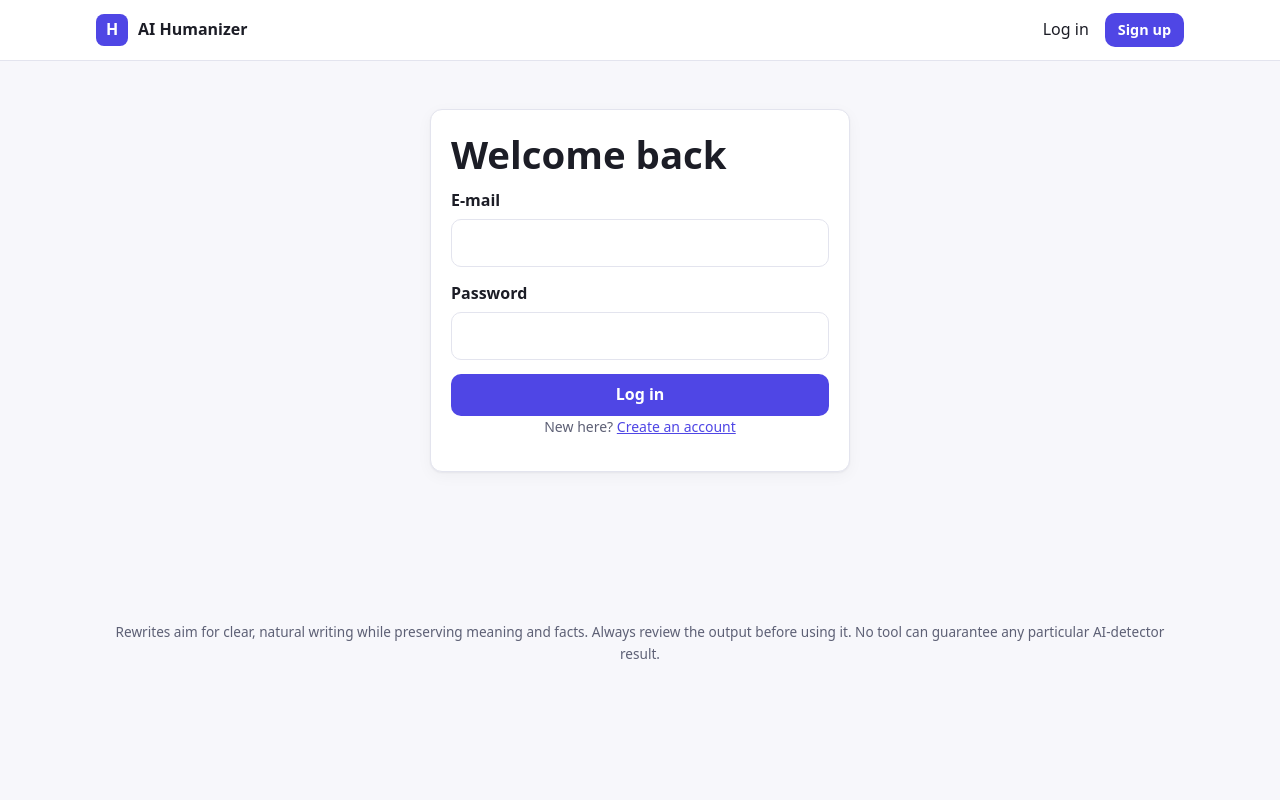
Test: App › shows API errors on failed login
Type "a@example.com" into the field labelled "E-mail" at (640,243), box top-left (451, 219), bottom-right (829, 267)
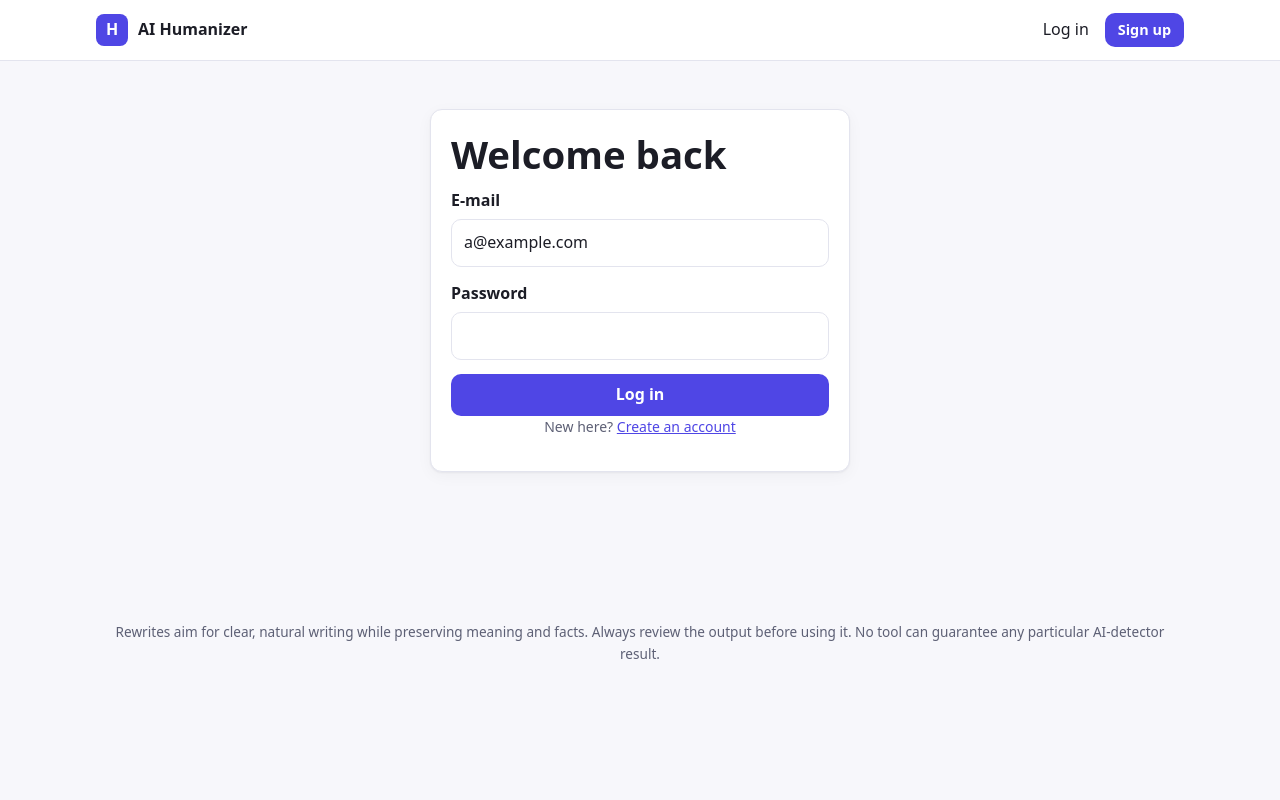
Type "wrongpass1" into the password field labelled "Password" at (640,336), box top-left (451, 312), bottom-right (829, 360)
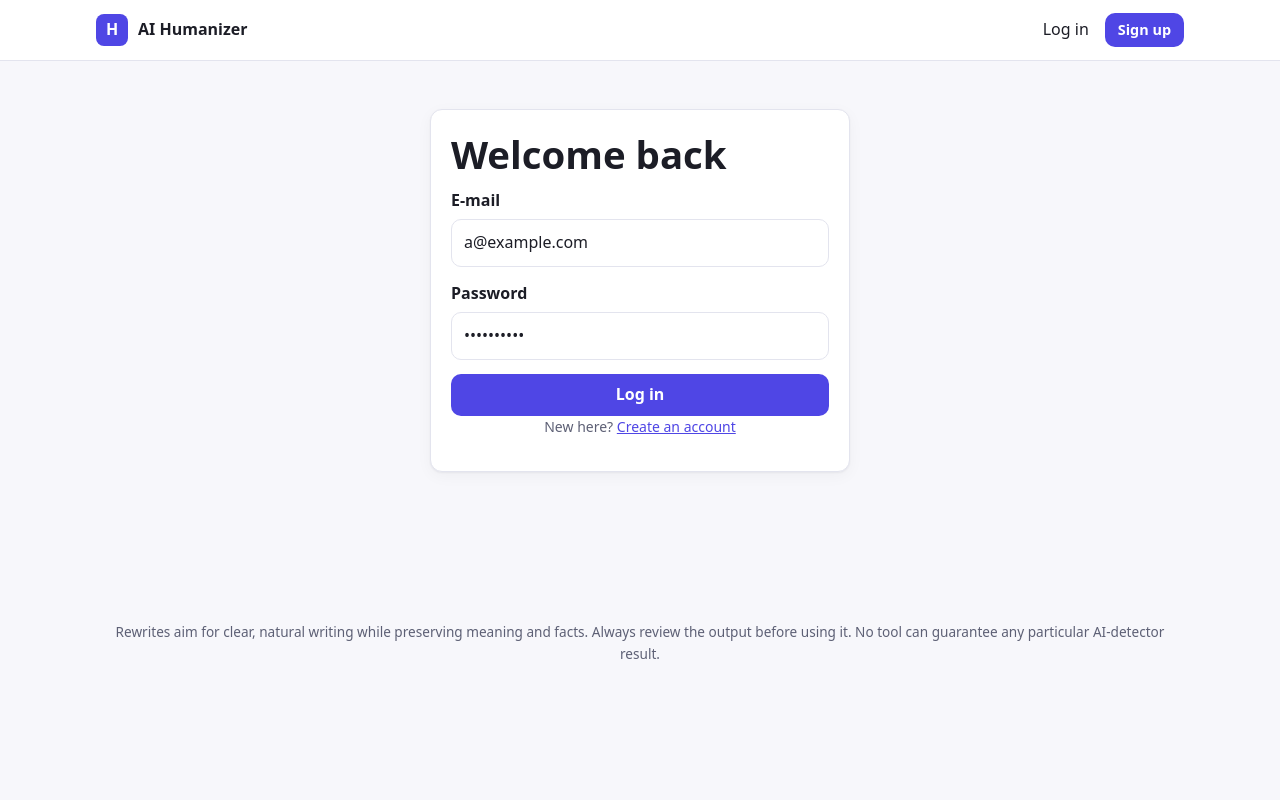
Click the button "Log in" at (640,395), box top-left (451, 374), bottom-right (829, 416)
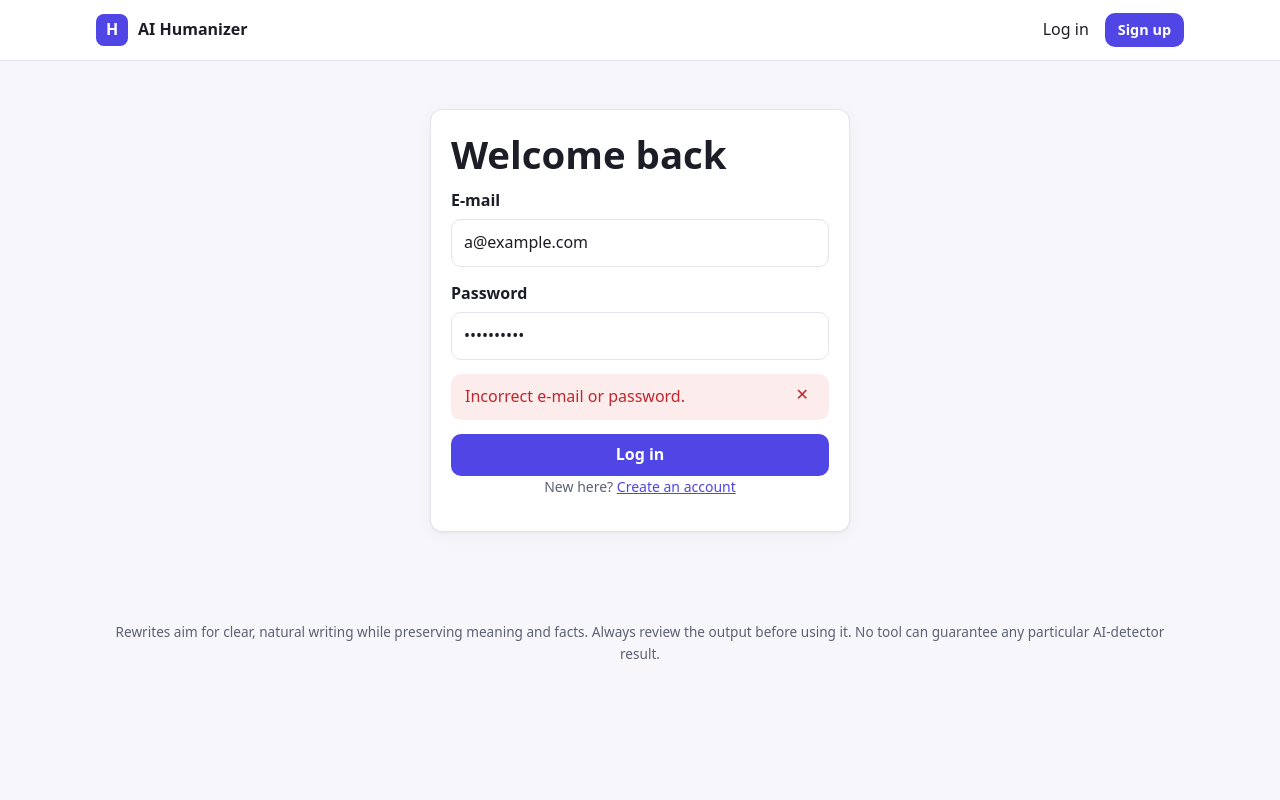
Check: the message shows "Incorrect", box top-left (465, 385), bottom-right (685, 407)
